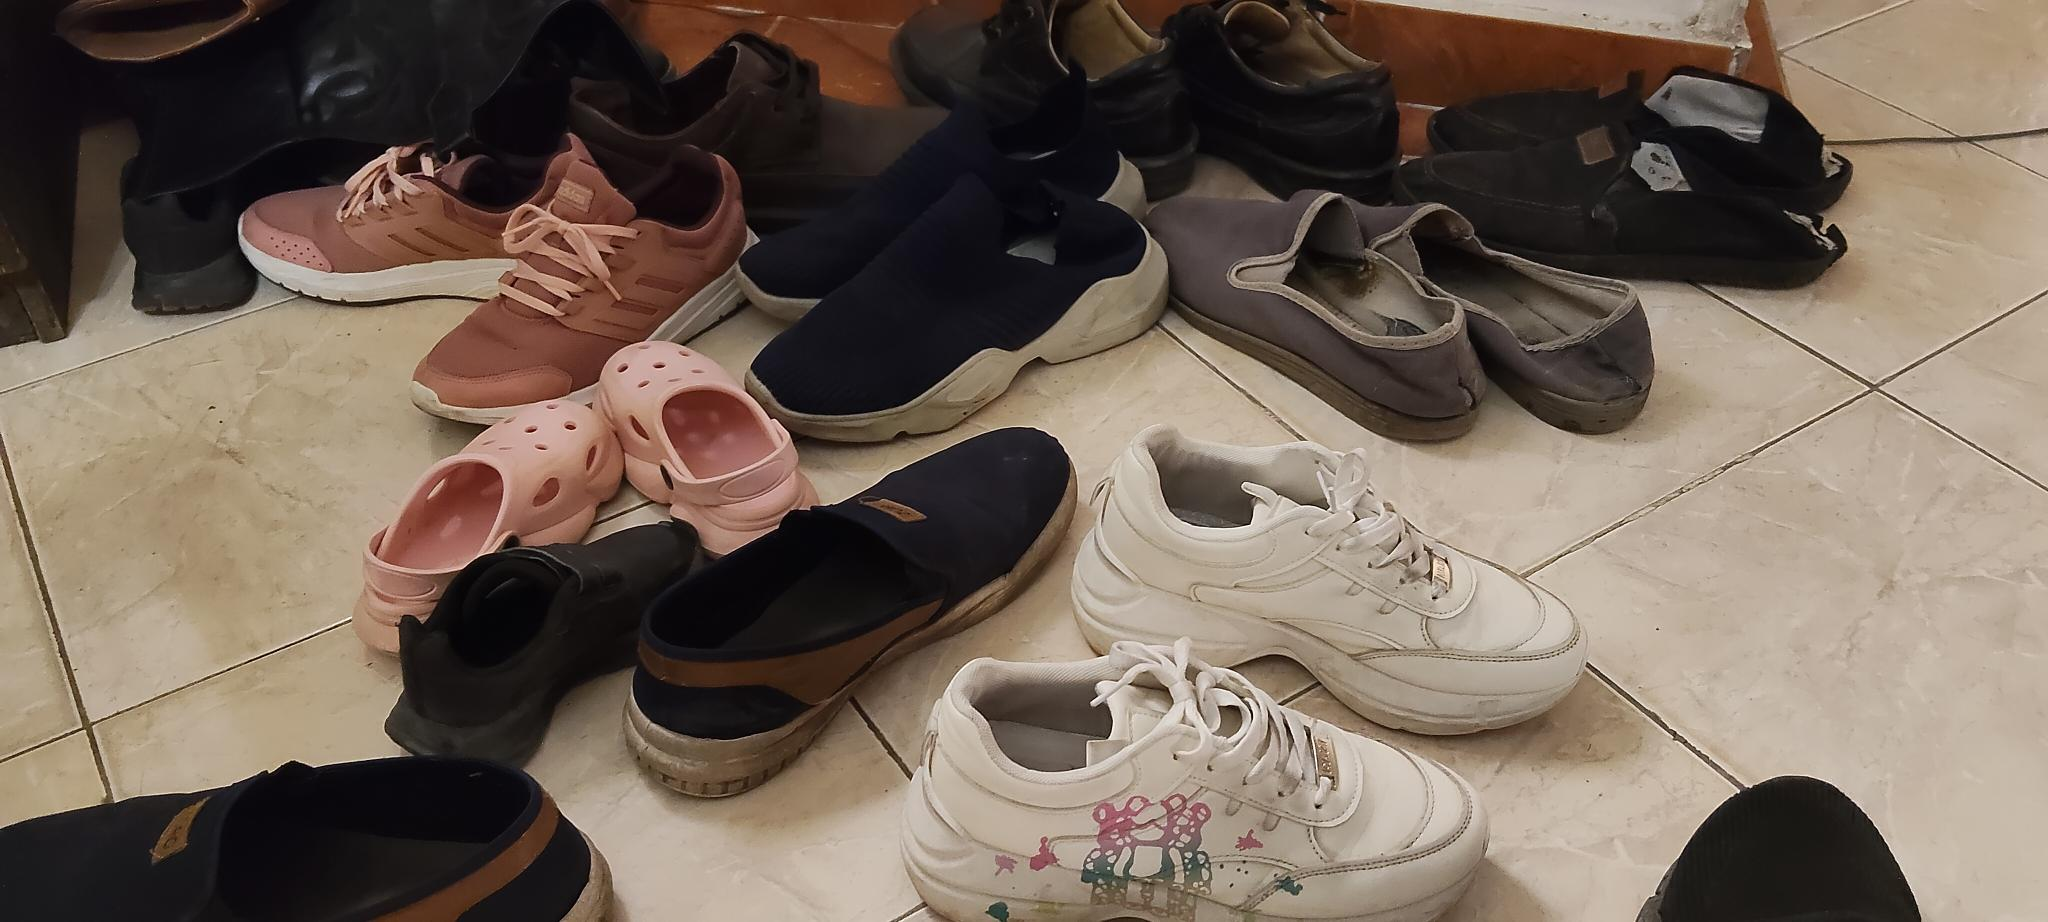Shoes: (622, 425, 1078, 796), (897, 640, 1488, 922), (1068, 428, 1585, 731), (0, 749, 618, 921), (753, 198, 1172, 441), (415, 135, 752, 423), (1142, 190, 1490, 441), (735, 111, 1153, 316), (1300, 196, 1655, 431), (385, 516, 698, 761), (1415, 128, 1840, 286), (367, 398, 618, 656), (565, 31, 938, 193), (1427, 70, 1858, 208), (902, 0, 1203, 195), (240, 133, 543, 303), (1165, 0, 1406, 198), (597, 340, 813, 561), (1635, 776, 1920, 921), (118, 116, 255, 316)
